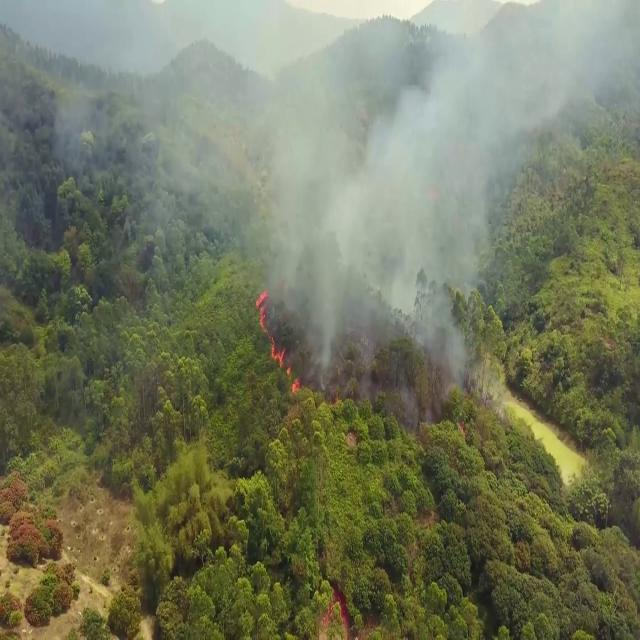Fire: (256, 286, 300, 395)
Smoke: (50, 1, 640, 428)
